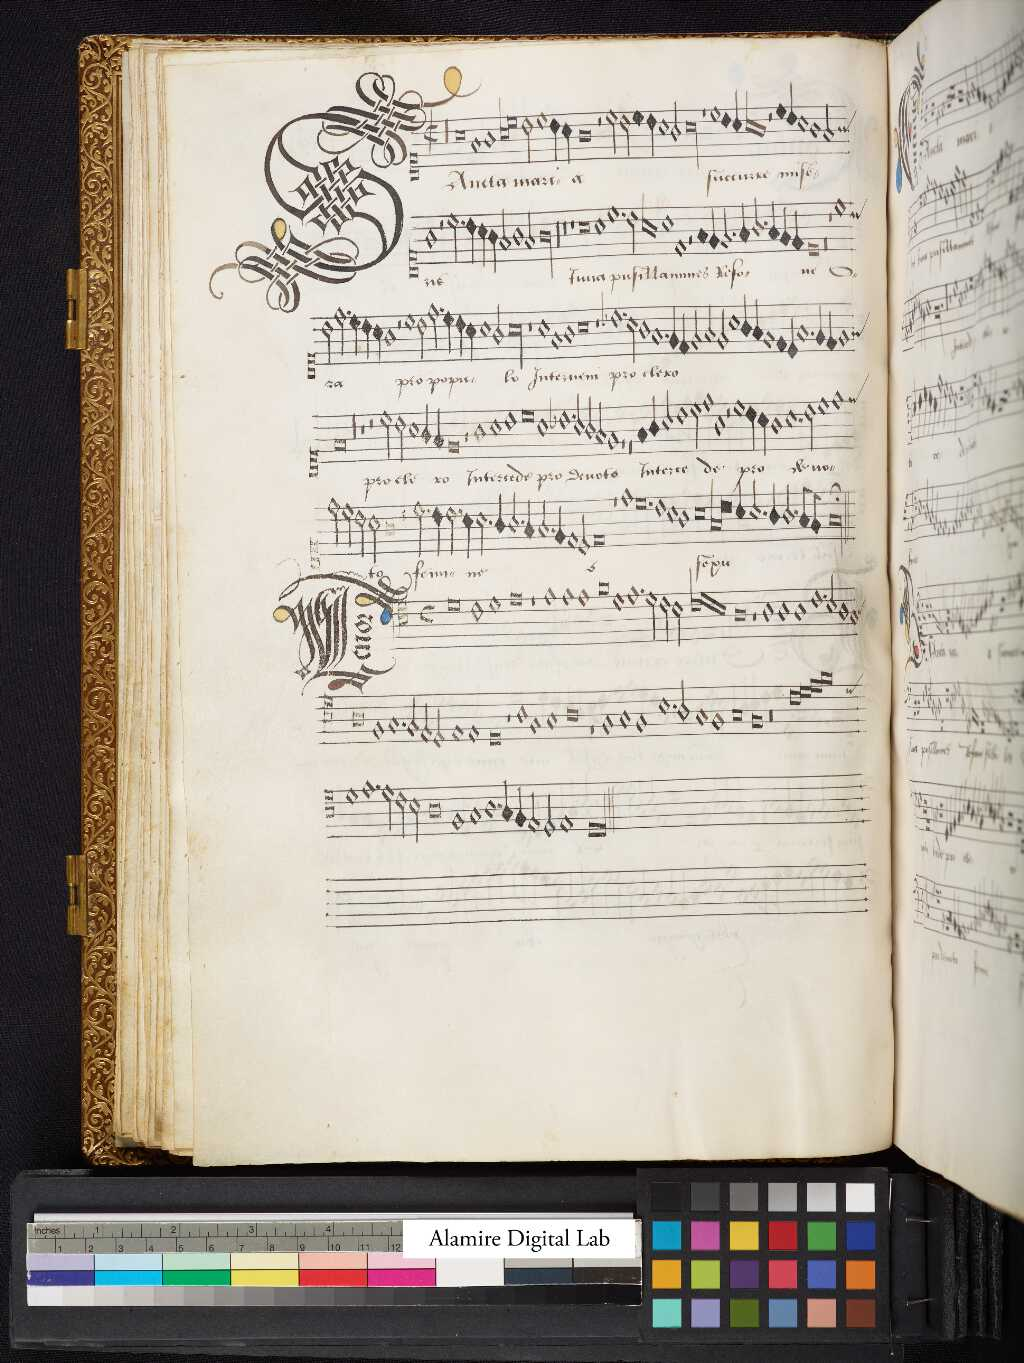breve rest: (626, 399, 636, 466)
breve_4: (518, 399, 535, 429)
breve_8: (329, 429, 350, 462)
breve_9: (445, 429, 463, 460)
c clef_11: (304, 435, 324, 488)
colored semibreve_8: (632, 417, 649, 448)
custos_3: (842, 379, 867, 407)
flat_5: (546, 395, 559, 434)
longa rest: (351, 413, 360, 462)
minim rest: (723, 384, 734, 441), (367, 407, 376, 462)
minim_4: (378, 399, 394, 463), (688, 391, 703, 452)
minim_5: (802, 392, 819, 454), (393, 404, 408, 465)
minim_6: (660, 384, 675, 435), (573, 386, 586, 440)
minim_7: (584, 388, 596, 442)
minim_8: (594, 393, 607, 448)
point: (566, 406, 577, 423), (794, 409, 803, 426)
semibreve rest: (459, 401, 471, 465), (618, 400, 628, 466), (356, 413, 368, 462)
semibreve_3: (830, 380, 848, 418), (699, 383, 716, 417)
semibreve_4: (816, 388, 833, 422), (730, 391, 746, 421)
semibreve_5: (557, 401, 573, 437), (503, 409, 522, 434), (675, 398, 689, 430)
semibreve_6: (534, 406, 550, 444), (784, 400, 800, 435), (406, 412, 421, 445), (489, 409, 504, 441)
semibreve_7: (711, 406, 730, 444), (769, 408, 785, 441), (472, 414, 488, 446)
semibreve_9: (605, 423, 621, 456)
semiminim_5: (746, 395, 759, 456)
semiminim_6: (756, 402, 771, 460)
semiminim_7: (648, 387, 662, 440), (422, 399, 435, 452)
semiminim_8: (432, 401, 446, 455)
